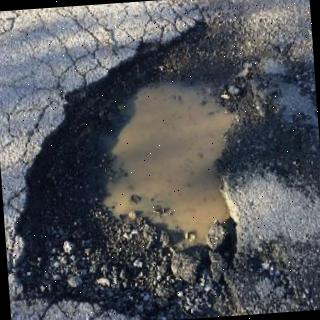pothole: (12, 20, 276, 320)
